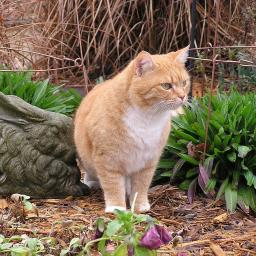catnose: (178, 94, 186, 100)
